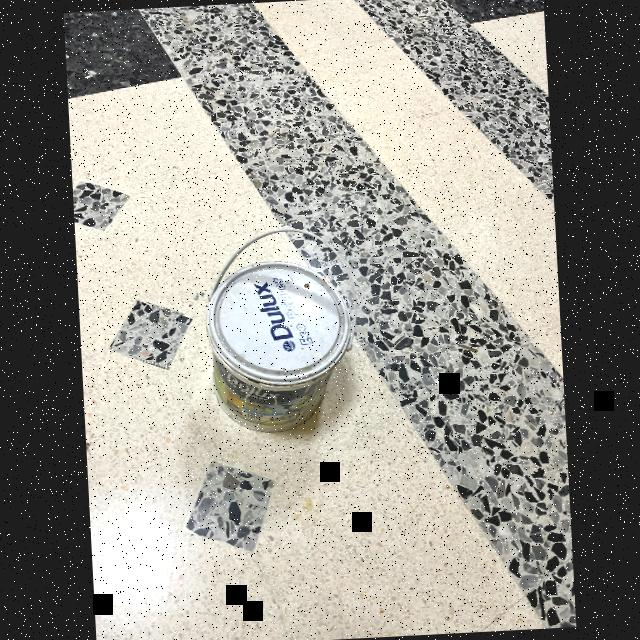paint_bucket: (201, 256, 358, 437)
